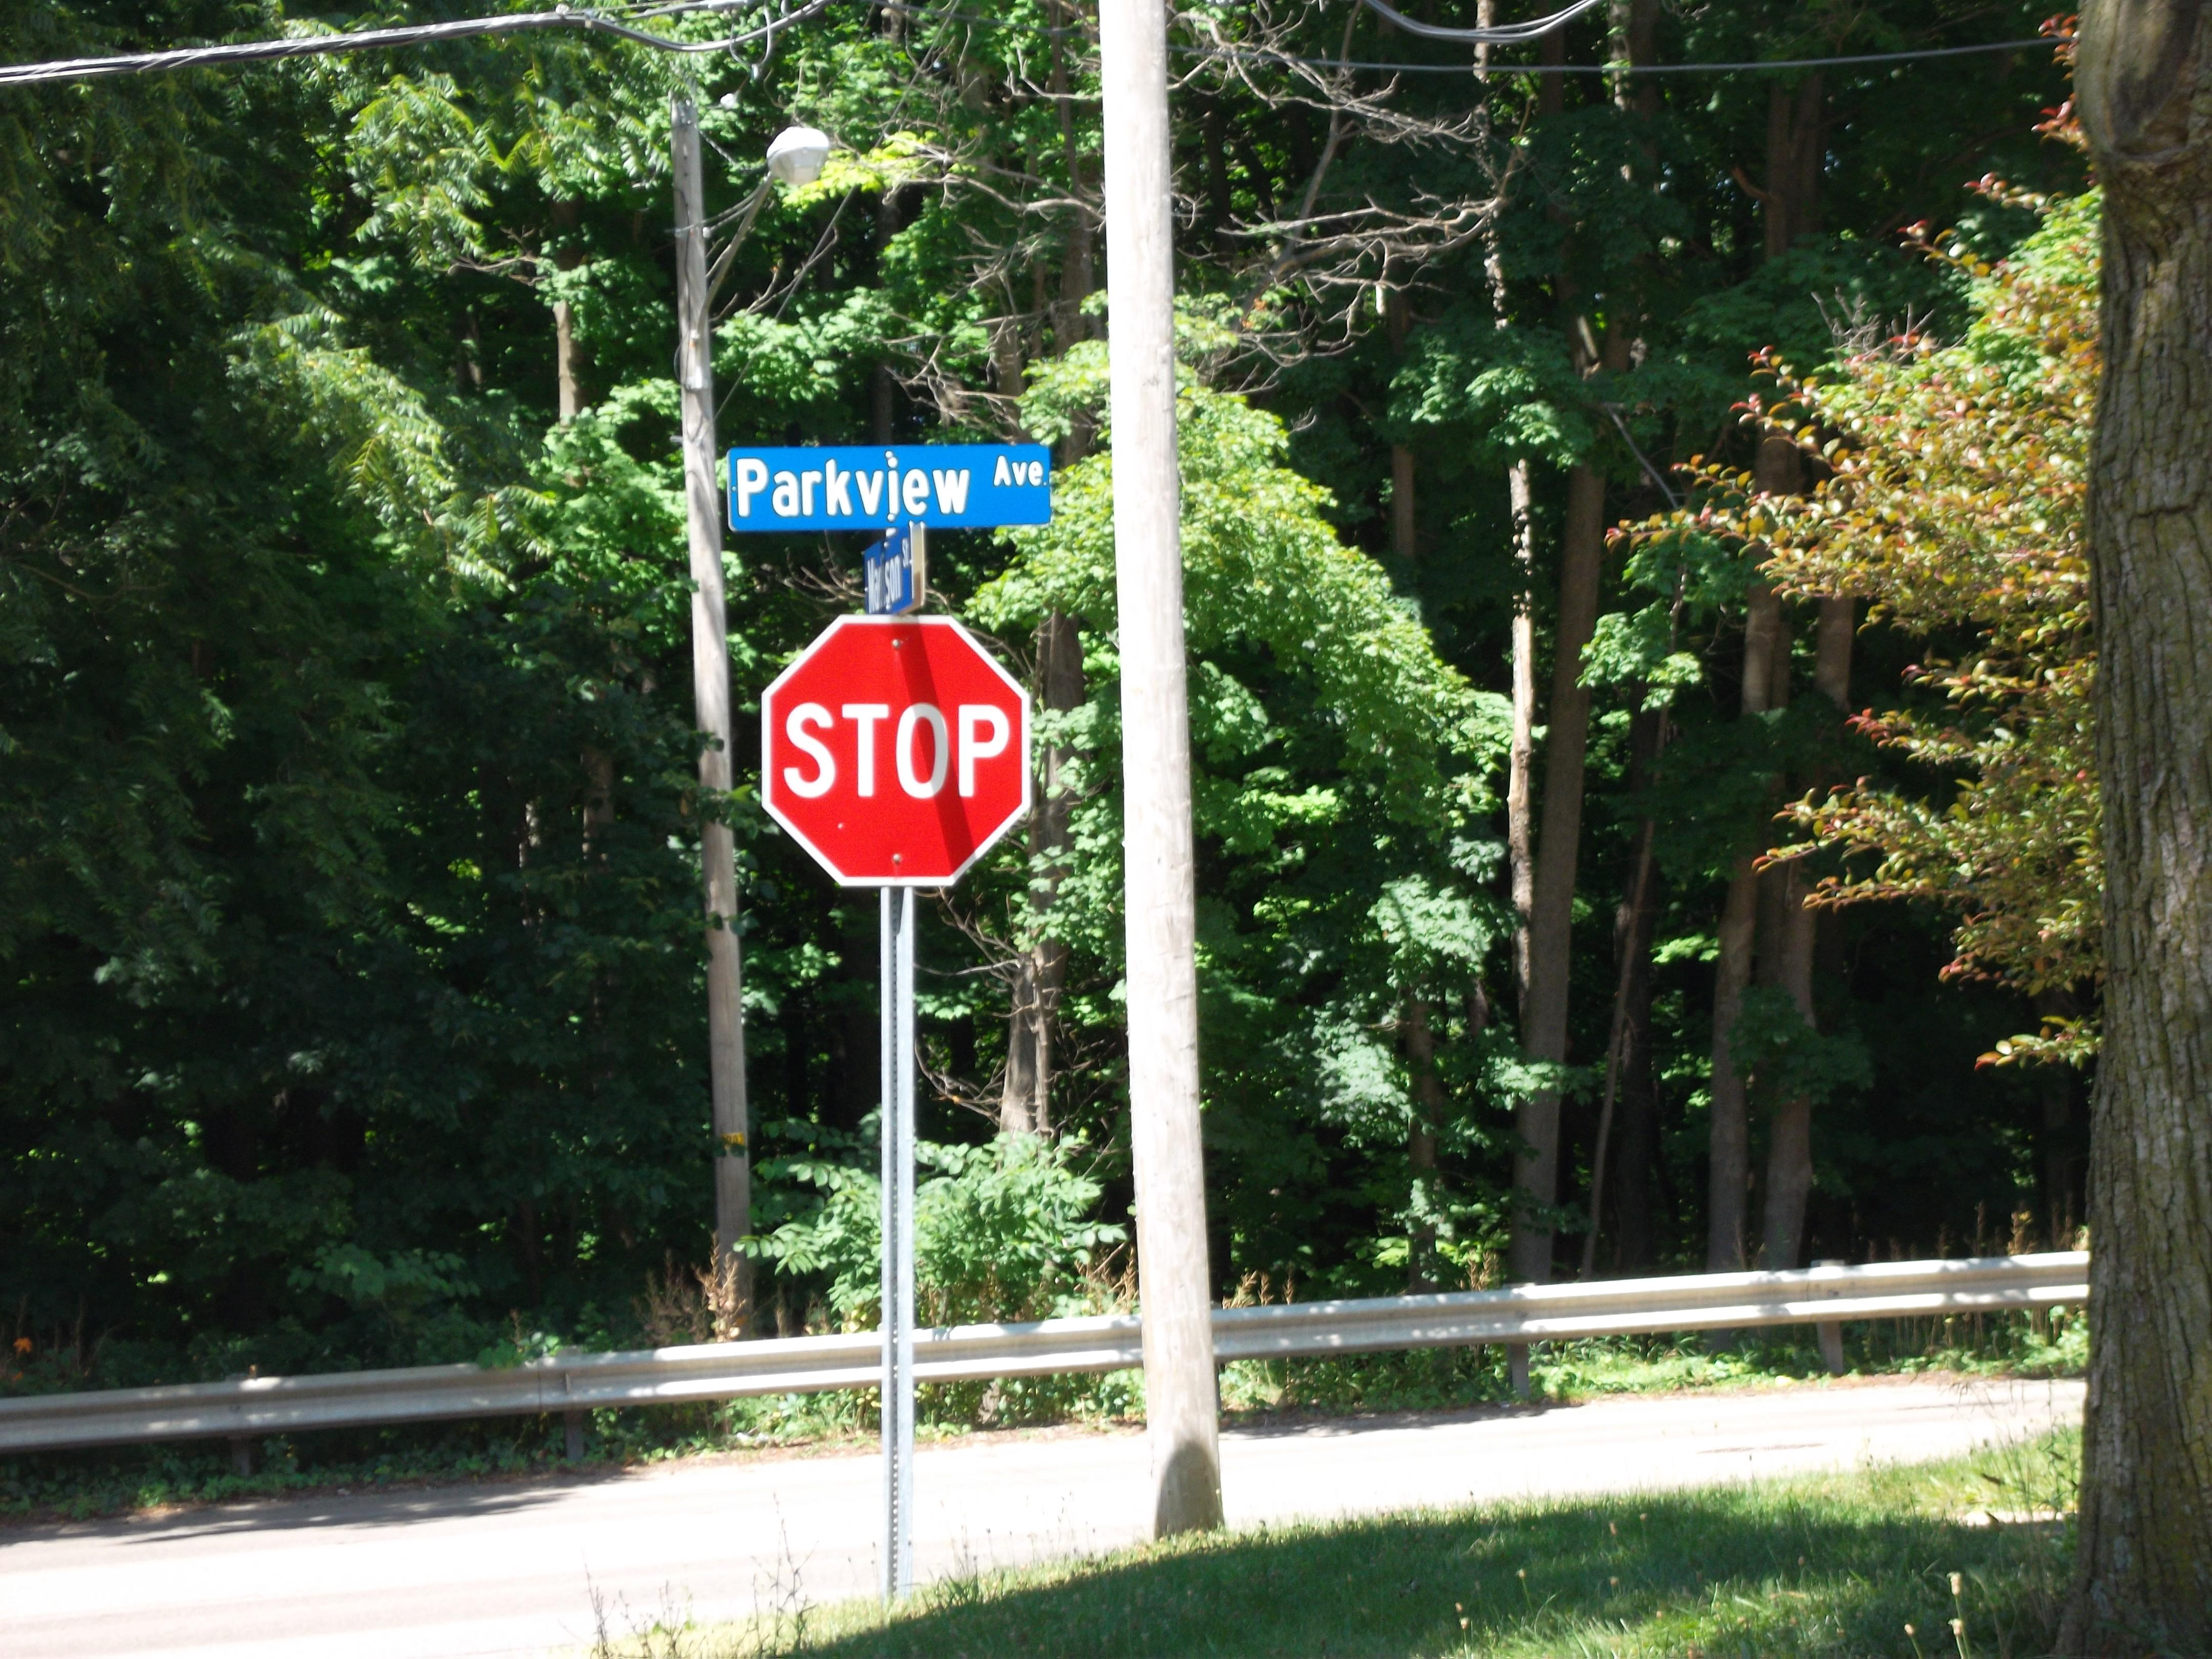stop: (747, 589, 1047, 906)
